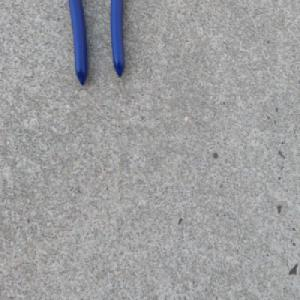Pliers: (68, 0, 127, 88)
